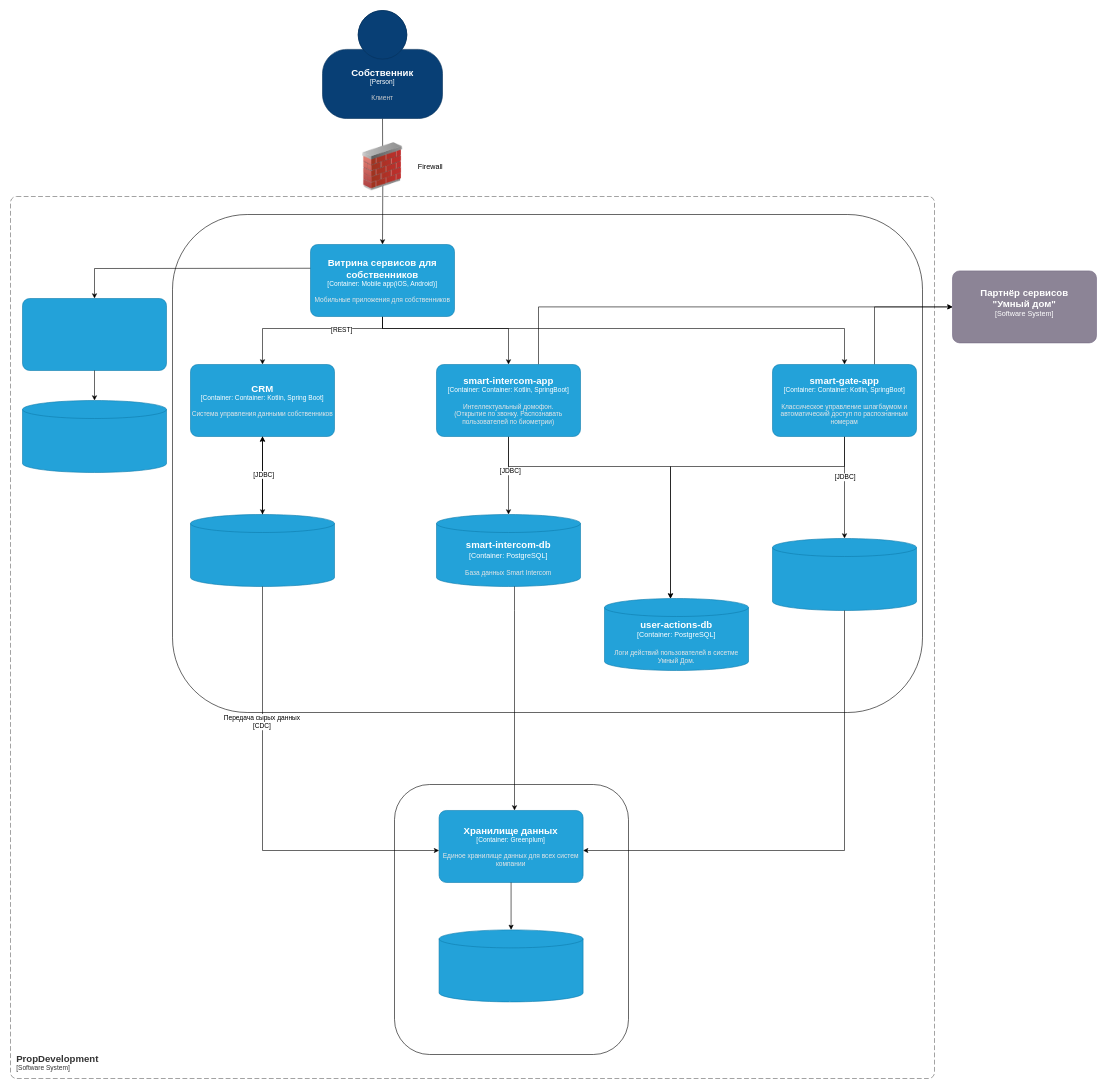
The diagram is 1107 pixels wide and 1089 high, and some of its shapes have lost their labels. Here are the shapes that lost their labels. From the top down, the centre of each, then its label:
At (x=94, y=334): "auth-service-1 [Container: Keycloak] Сервис аутентификации покупателей".
At (x=94, y=436): "auth-db-1 [Container: PostgreSQL] База данных сервиса аутентификации покупателей".
At (x=262, y=550): "crm-tenant-db [Container: PostgreSQL] База данных CRM по собственникам".
At (x=844, y=574): "smart-gate-db [Container: PostgreSQL] База данных Smart Gate".
At (x=510, y=965): "DWH Хранилище [Container: S3] Физическое хранилище данных DWH".
